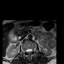CCS_normal: (27, 47, 29, 55)
LFS_normal: (31, 46, 34, 53)
LLS_normal: (29, 46, 31, 54)
RFS_normal: (24, 47, 25, 54)
RLS_normal: (25, 47, 27, 54)
